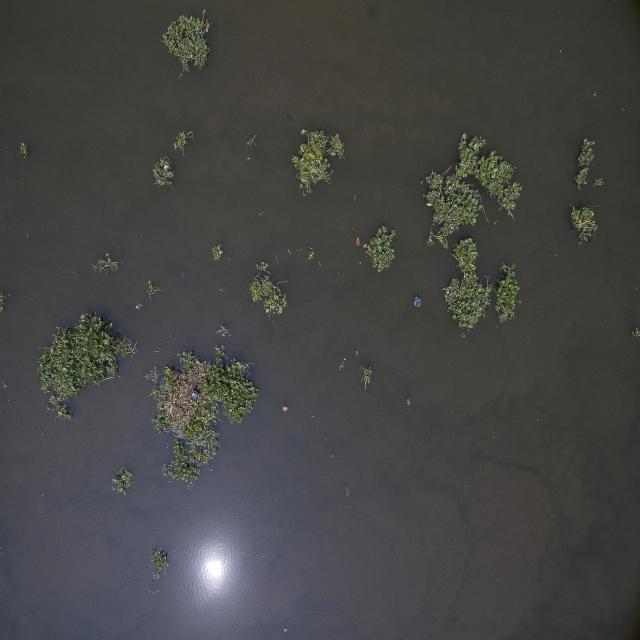Plastic: (414, 295, 422, 311), (192, 389, 200, 403)
